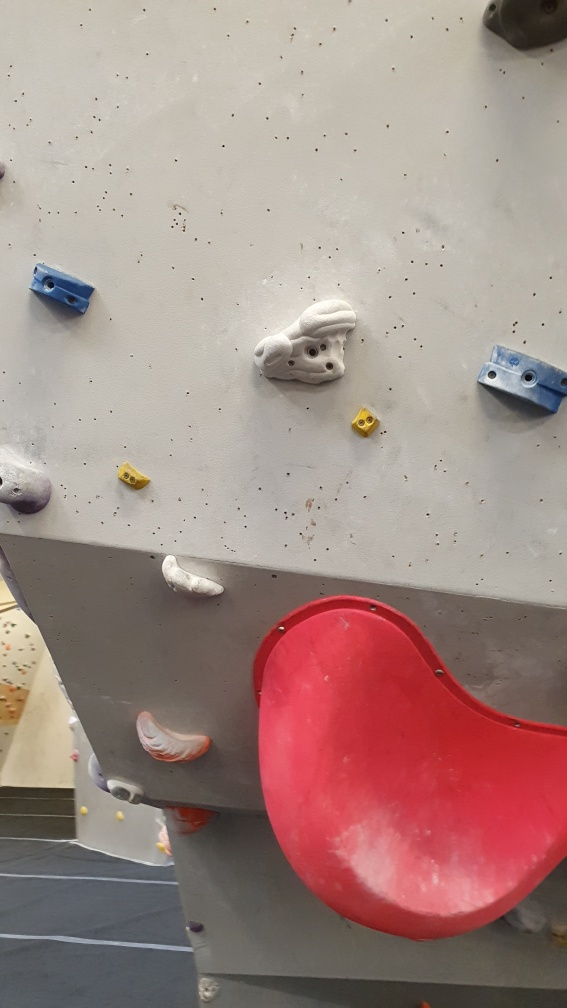Crimp: (114, 460, 151, 497)
Jug: (249, 295, 363, 390), (131, 705, 217, 767), (155, 549, 229, 605)
Pinch: (474, 338, 567, 420), (28, 256, 98, 315), (347, 401, 383, 440)
